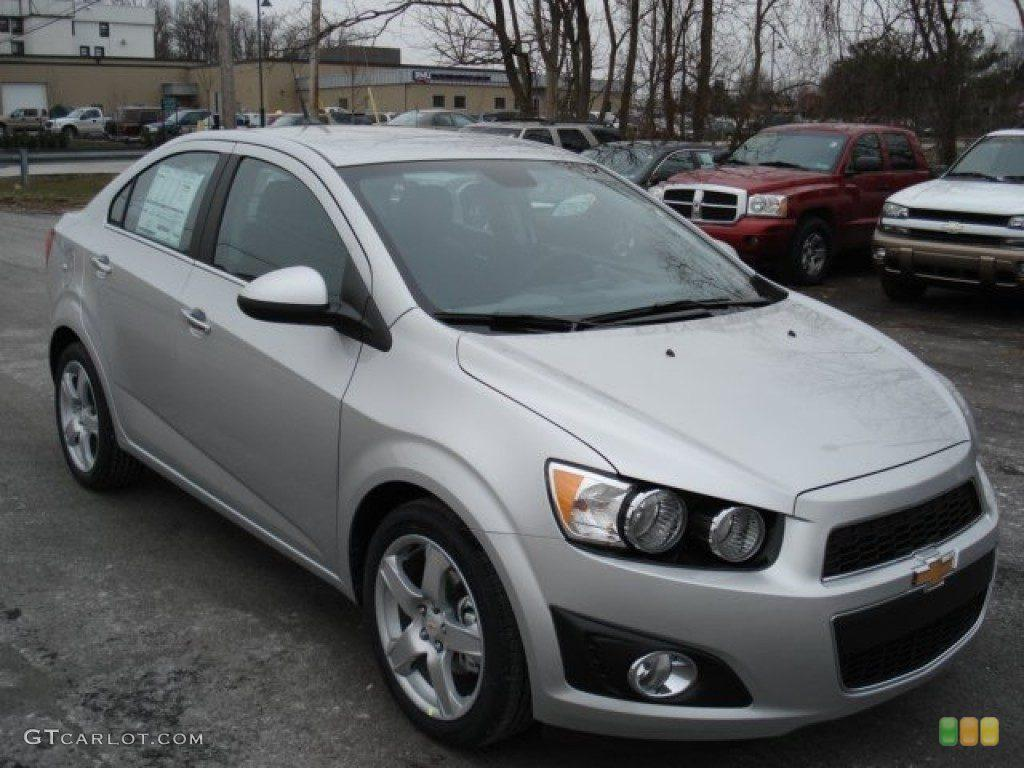Sedan: (44, 117, 1001, 750), (647, 119, 934, 284), (869, 126, 1023, 303)
